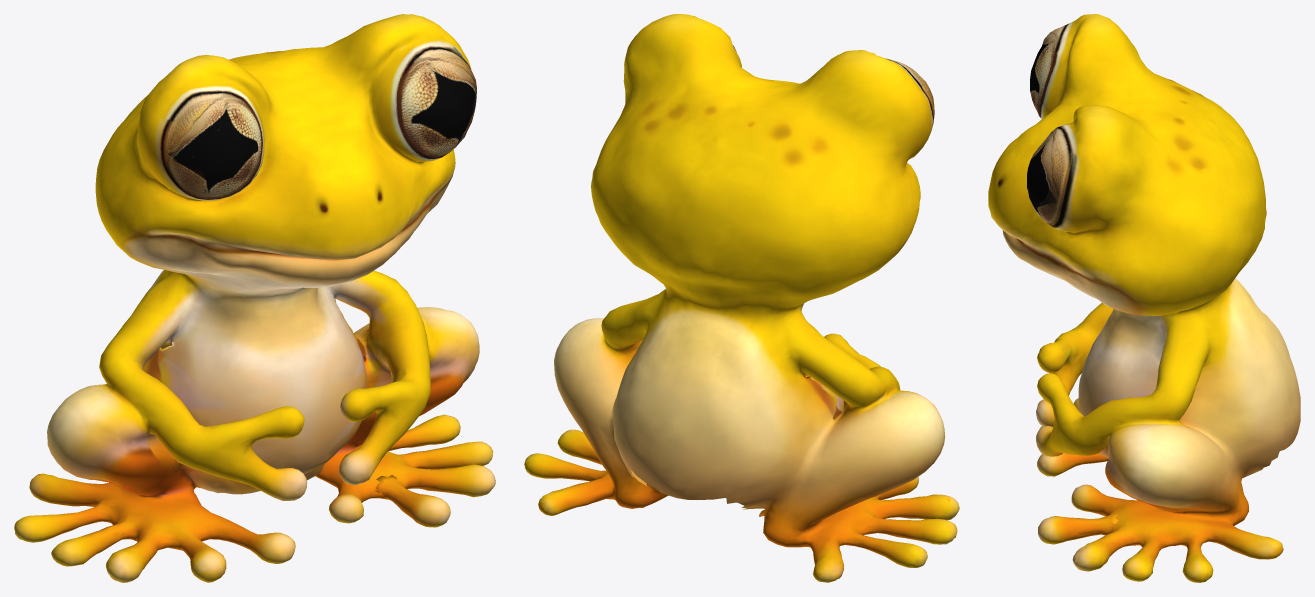
The model's file is frog_yellow_v1.glb.
The picture shows the model from 3 angles, left to right: view 1: azimuth 30°, elevation 25°; view 2: azimuth 150°, elevation 25°; view 3: azimuth 270°, elevation 25°; orthographic projection. The views are drawn at different scales.
Bounding box in the file's own units: 1.77 × 1.9 × 1.23.
1 material, 1 textured.
